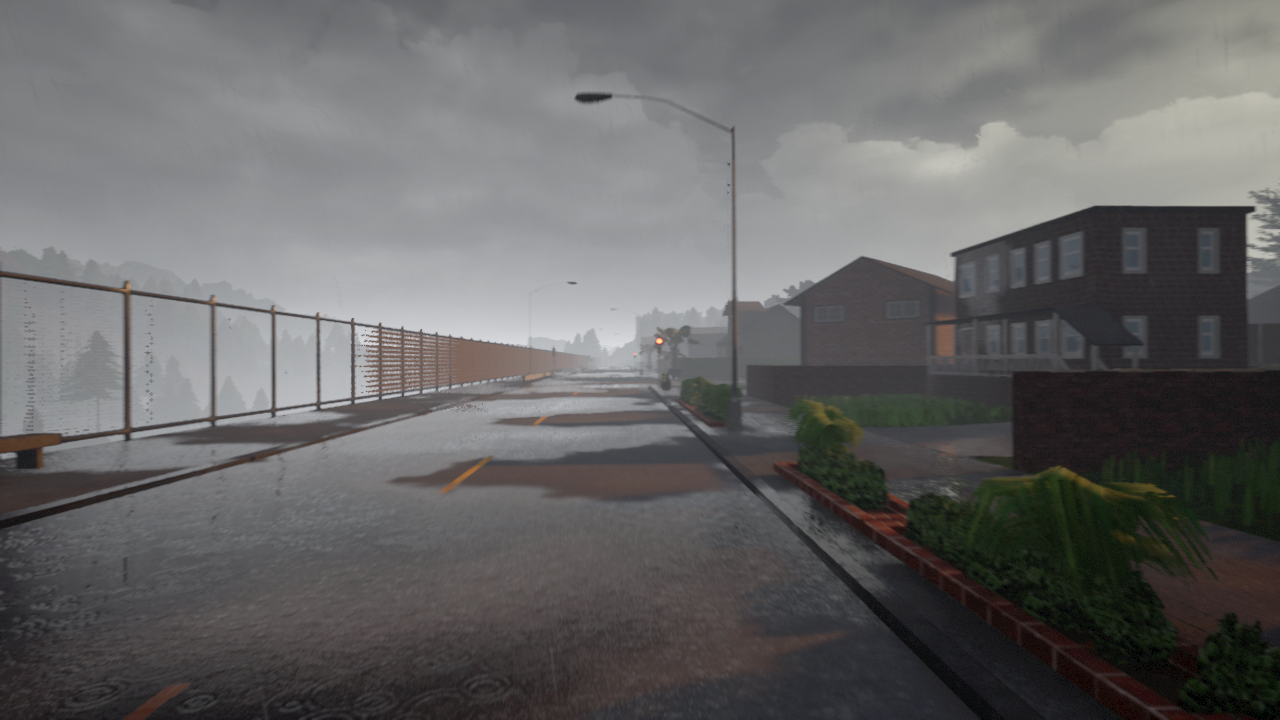red: (655, 336, 663, 352)
